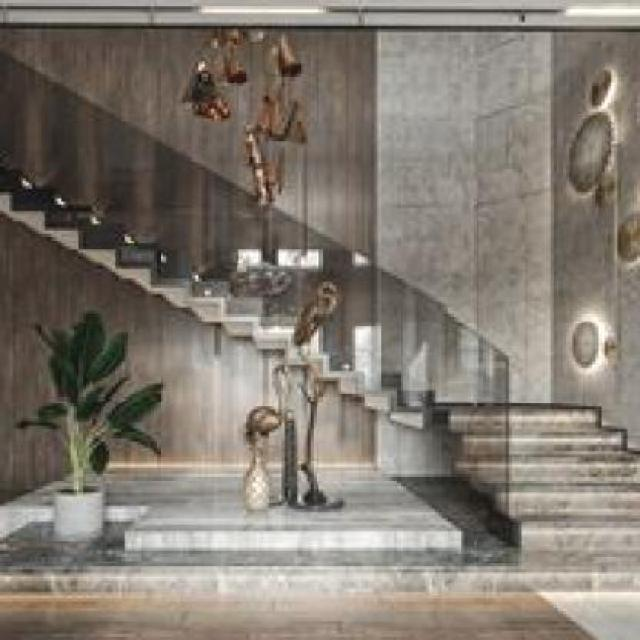stair: (442, 332, 638, 592)
